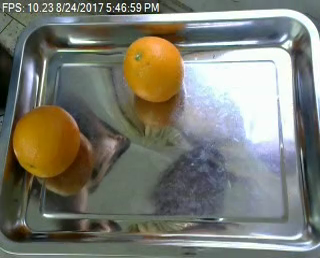Orange: (12, 105, 82, 178), (123, 35, 184, 103)
